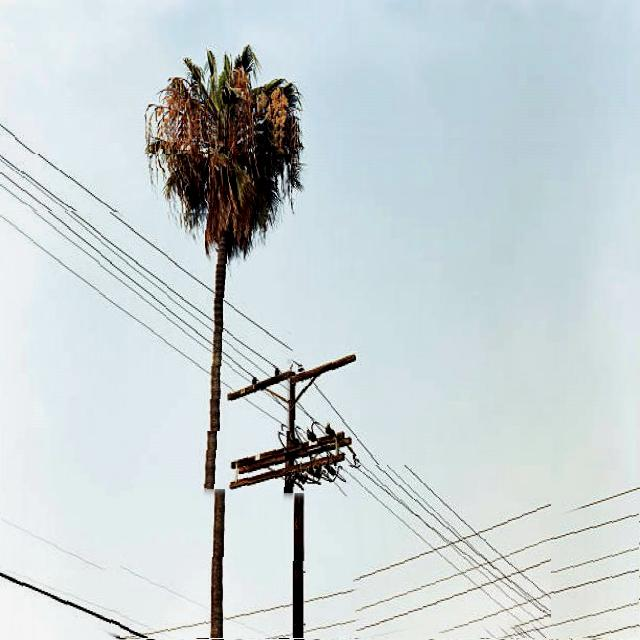crossarm: (232, 342, 359, 397), (248, 423, 361, 464), (242, 418, 352, 460), (240, 442, 350, 482)
pole: (293, 363, 317, 640)
wire: (1, 121, 546, 640), (120, 506, 640, 638), (0, 211, 292, 431), (0, 155, 291, 364), (2, 171, 261, 382), (346, 465, 551, 625), (1, 570, 154, 638)
